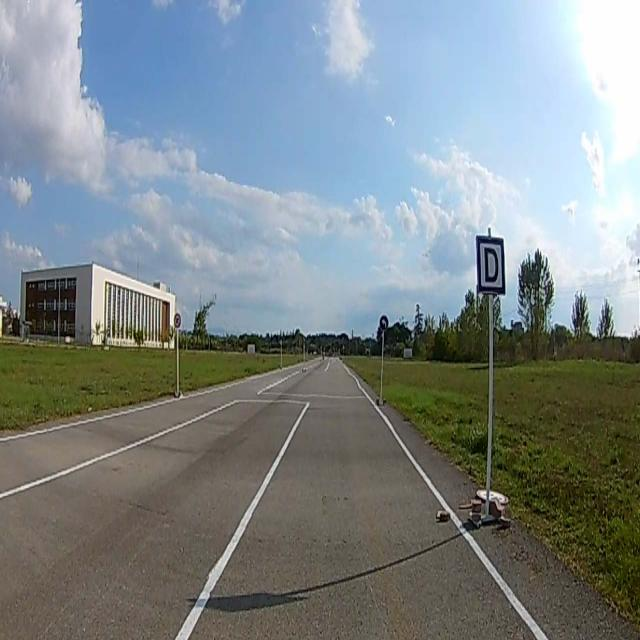durak: (476, 237, 504, 295)
sol: (380, 314, 388, 330)
